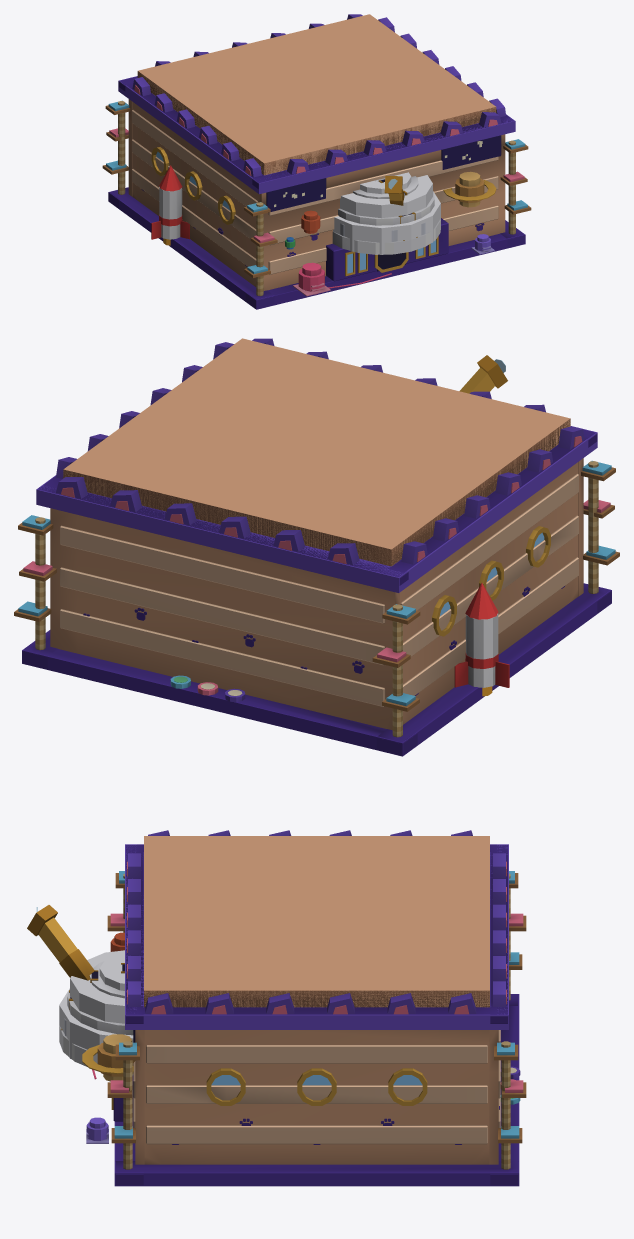
Rendered from AstroCatFloor.fbx.
3 renders of one model, top to bottom at view 1: azimuth 30°, elevation 25°; view 2: azimuth 150°, elevation 25°; view 3: azimuth 270°, elevation 25°, orthographic. The views are drawn at different scales.
Parts seen in each view (by area): view 1: AC_S_All, AC_F_Rings, AC_F_Smooth, AC_F_Props, AC_F_Quiet, AC_F_Glass; view 2: AC_F_Rings, AC_S_All, AC_F_Smooth, AC_F_Props; view 3: AC_S_All, AC_F_Rings, AC_F_Smooth, AC_F_Props, AC_F_Glass.
Boxes of the visible parts, left/top/right/bottom form: AC_S_All: left=108, top=14, right=525, bottom=309; AC_F_Rings: left=108, top=71, right=524, bottom=308; AC_F_Smooth: left=102, top=81, right=531, bottom=299; AC_F_Props: left=118, top=14, right=515, bottom=294; AC_F_Quiet: left=267, top=135, right=500, bottom=211; AC_F_Glass: left=156, top=141, right=482, bottom=273; AC_F_Rings: left=23, top=418, right=611, bottom=755; AC_S_All: left=22, top=338, right=611, bottom=756; AC_F_Smooth: left=14, top=433, right=619, bottom=742; AC_F_Props: left=35, top=338, right=598, bottom=687; AC_S_All: left=38, top=836, right=519, bottom=1186; AC_F_Rings: left=59, top=844, right=517, bottom=1185; AC_F_Smooth: left=61, top=861, right=526, bottom=1174; AC_F_Props: left=27, top=830, right=510, bottom=1140; AC_F_Glass: left=36, top=907, right=422, bottom=1085.
Bounding box in the file's own units: 60 × 20 × 60.
